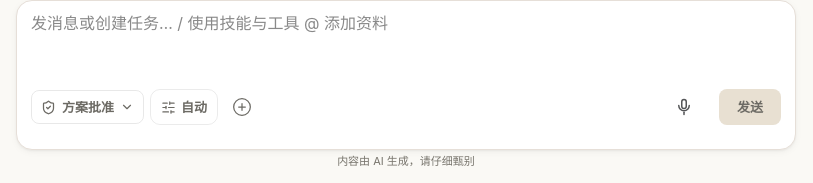
Test: ChatComposer project library drops › lists the three upload sources directly in the plus menu
Click the button named "上传" at {"x": 242, "y": 107}, box [224,89,260,125]
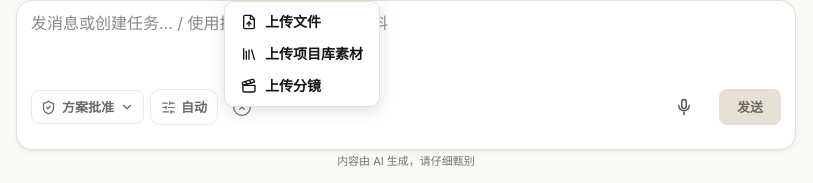
Now the text "上传文件" is shown, box [265,15,321,29]
Now the text "上传项目库素材" is shown, box [265,47,363,61]
Now the text "上传分镜" is shown, box [265,79,321,93]
